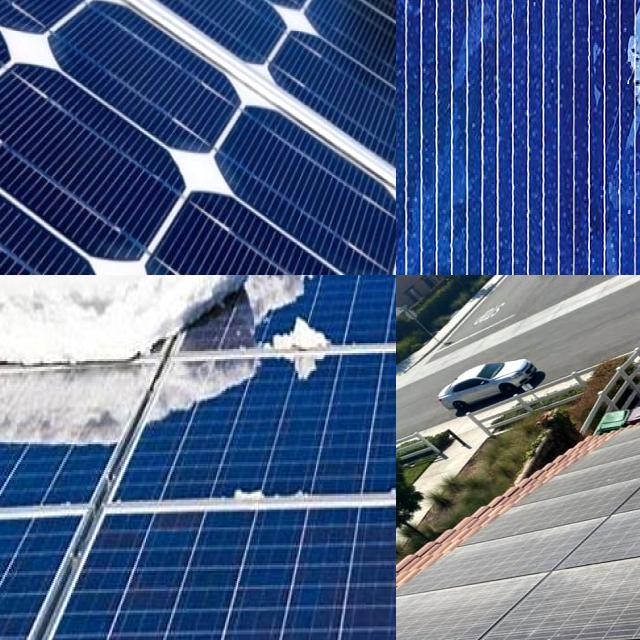crack: (0, 0, 396, 275)
dust: (396, 558, 540, 640), (516, 478, 594, 562), (540, 571, 640, 623), (604, 435, 640, 466)
panel: (175, 280, 308, 384), (0, 316, 69, 410), (78, 324, 155, 406), (224, 275, 348, 318), (277, 310, 347, 386), (119, 330, 182, 394), (118, 275, 226, 311), (36, 338, 96, 397), (21, 275, 134, 303), (220, 472, 285, 520), (0, 332, 37, 399), (0, 329, 38, 393), (0, 332, 29, 391), (0, 275, 45, 300), (0, 275, 43, 299), (0, 275, 30, 294)
